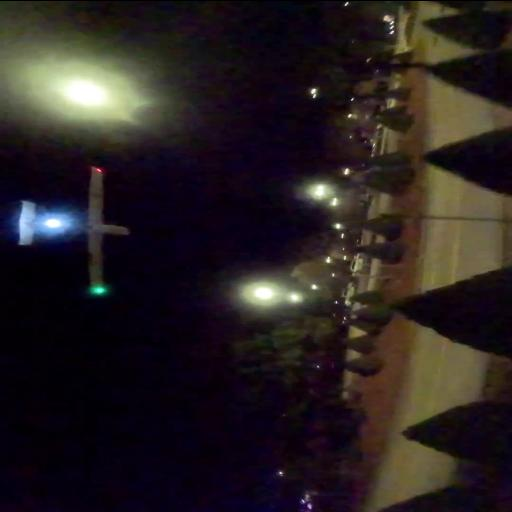uav: (11, 162, 137, 296)
